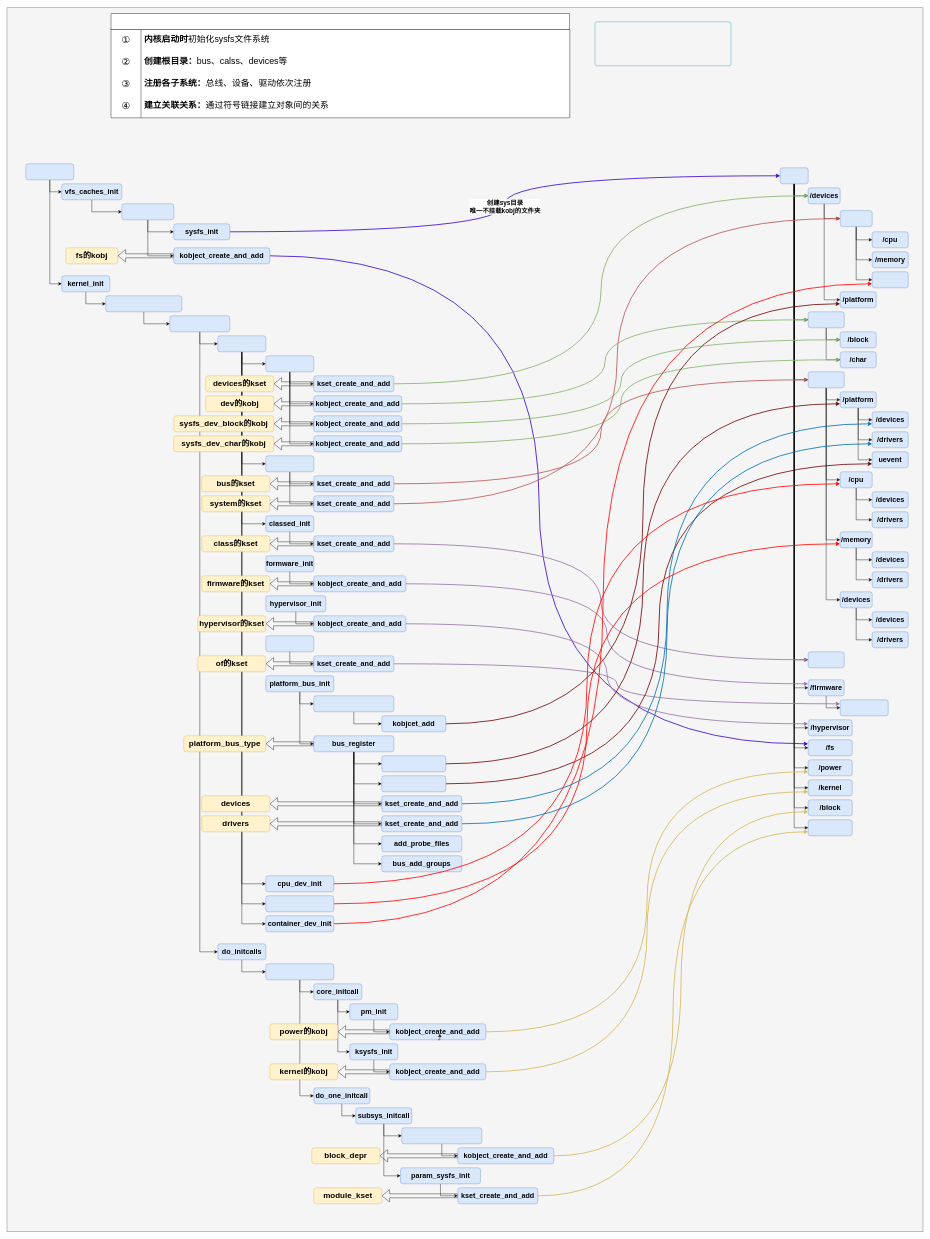
Image size: 930x1239. Some labels were removed from this diagram. The shapes that lost their labels are listed below. From the top down, each one's box as (x1, y1, x2, y2) in pixels, then its label:
(111, 13, 570, 29): SysFs构建流程
(595, 21, 731, 66): 🌻Make By Dakkk
(25, 163, 74, 180): start_kernel
(780, 167, 808, 184): /sys
(121, 203, 174, 220): mnt_init
(840, 210, 872, 227): /system
(872, 271, 908, 288): /container
(105, 295, 182, 312): kernel_init_freeable
(169, 315, 230, 332): do_basic_setup
(808, 311, 844, 328): /dev
(217, 335, 266, 352): driver_init
(265, 355, 314, 372): devices_init
(808, 371, 844, 388): /bus
(265, 455, 314, 472): buses_init
(265, 635, 314, 652): of_core_init
(808, 651, 844, 668): /class
(313, 695, 394, 712): device_register
(840, 699, 888, 716): /devicetree
(381, 755, 446, 772): kset_register
(381, 775, 446, 792): bus_create_file
(808, 819, 852, 836): /module
(265, 895, 334, 912): memory_dev_init
(265, 963, 334, 980): do_initcalls_level
(401, 1127, 482, 1144): genhd_devices_init
